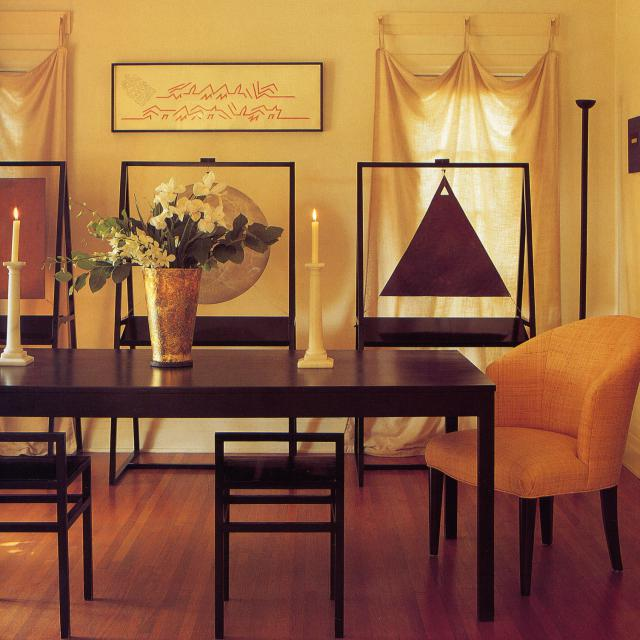CandleHolder: (294, 264, 333, 369), (2, 261, 36, 366)
Chair: (423, 314, 638, 595), (213, 431, 343, 637), (1, 431, 93, 637)
Table: (2, 347, 498, 621)
painting crop: (111, 63, 323, 132)
